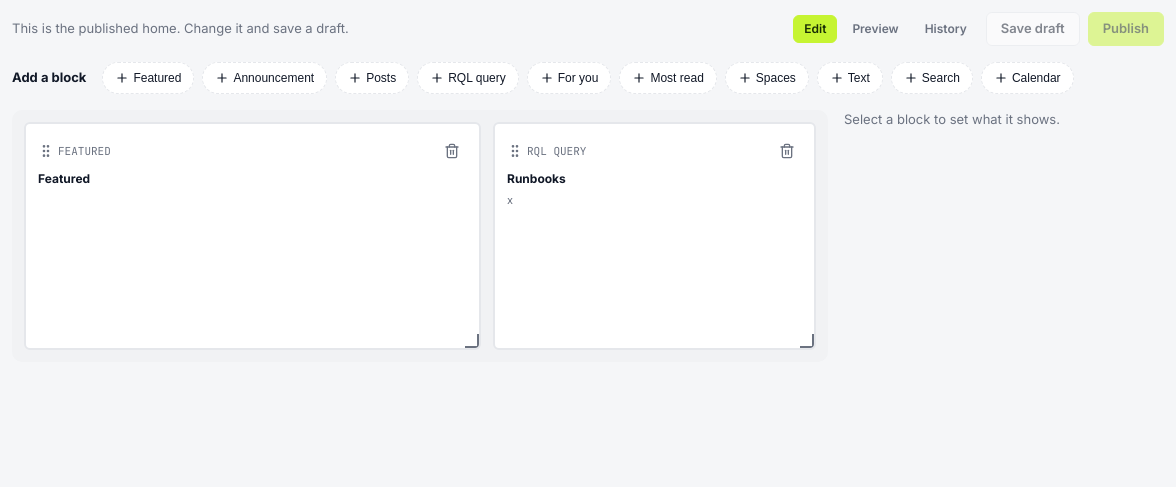
Test: HomeEditor › previews the unsaved layout and opens the history
Click the button "Text" at (850, 78), box [817,62,883,94]
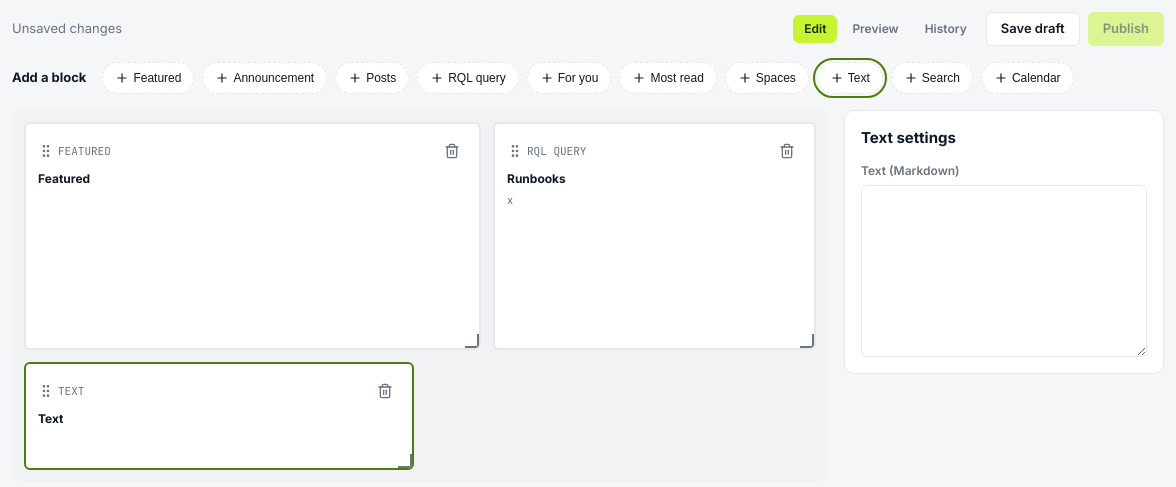
Click the button "Preview" at (876, 29), box [841,15,910,43]
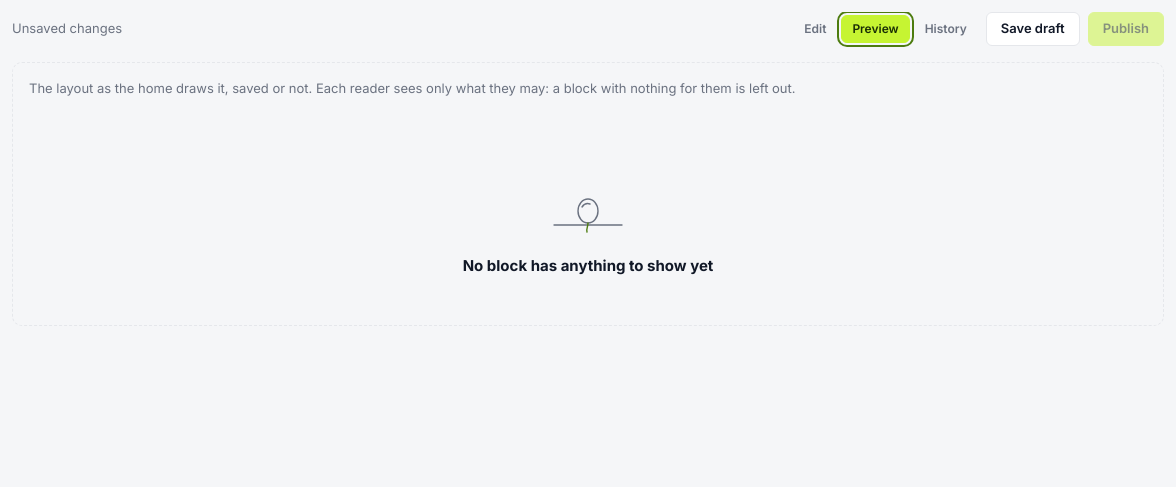
Expected: the heading "No block has anything to show yet" is shown, [463,254,713,277]
Click the button "History" at (946, 29), box [914,15,978,43]
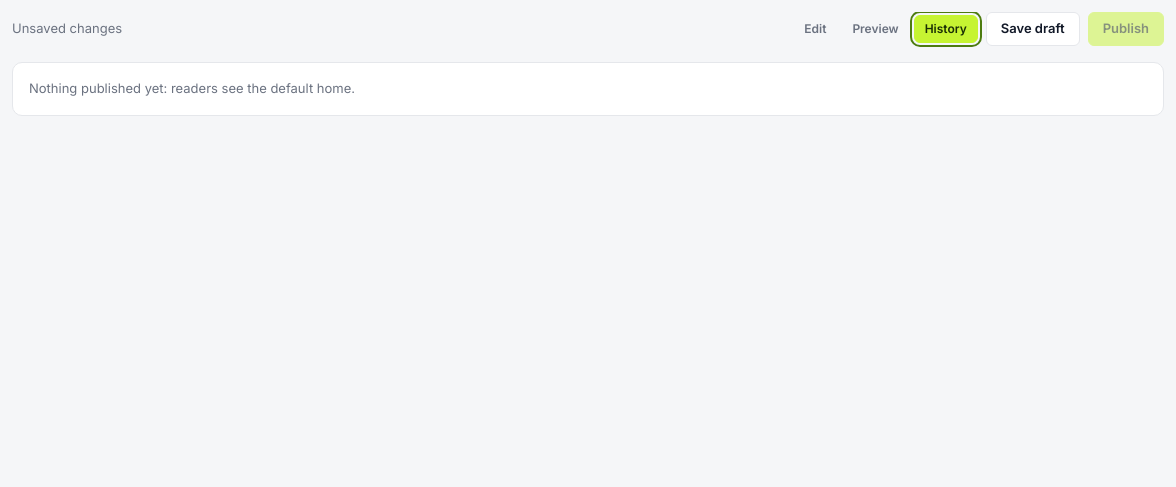
Expected: the heading "Add a block" is not shown
Expected: the element named "History" is shown, [12,62,1164,116]
